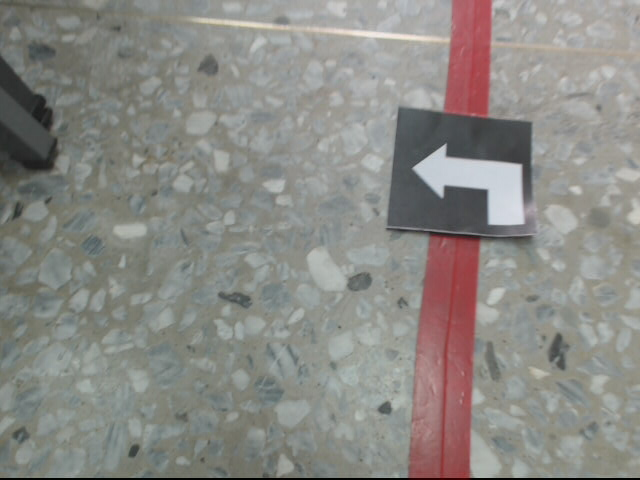left: (385, 105, 540, 241)
